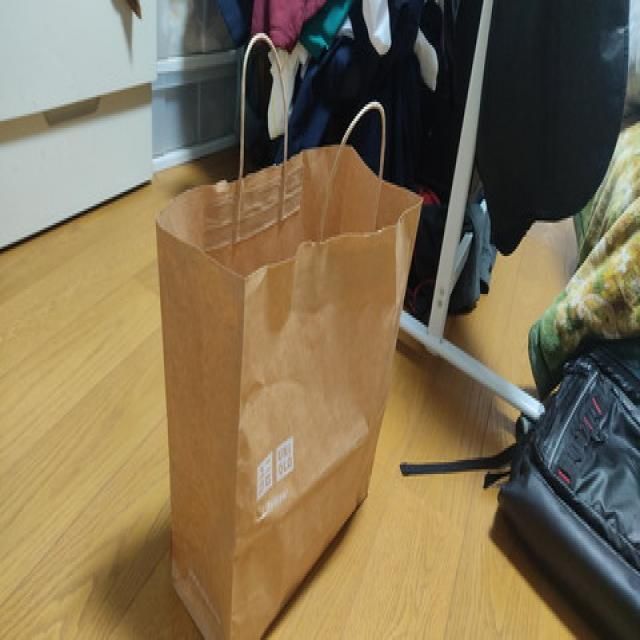paper bag: (154, 25, 426, 640)
